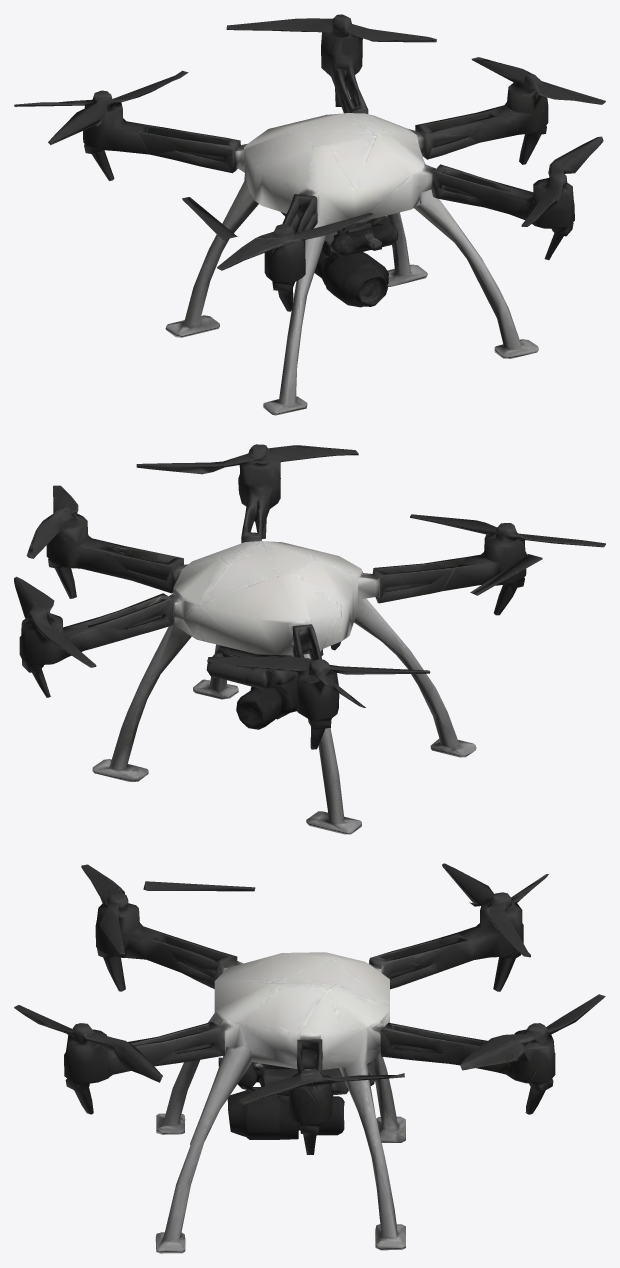
The picture shows the model from 3 angles, top to bottom: view 1: azimuth 30°, elevation 25°; view 2: azimuth 150°, elevation 25°; view 3: azimuth 270°, elevation 25°; orthographic projection. The views are drawn at different scales.
Bounding box in the file's own units: 1.81 × 0.7743 × 1.9.
1 material, 1 textured.
